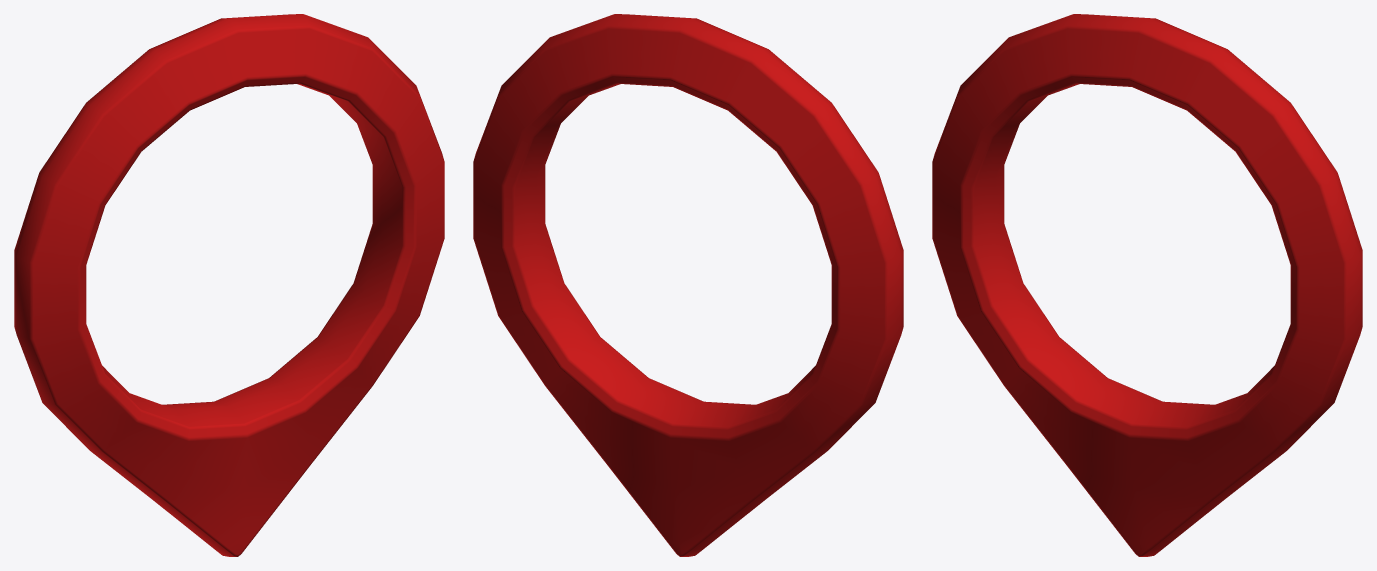
Rendered from placemarker2.glb.
3 views of the same model, side by side, from view 1: azimuth 30°, elevation 25°; view 2: azimuth 150°, elevation 25°; view 3: azimuth 330°, elevation 25° (orthographic).
Visible parts, largest first — view 1: Location_sign_05v; view 2: Location_sign_05v; view 3: Location_sign_05v.
Part boxes in pixels (x1,y1,x2,y2): Location_sign_05v: (14,14,444,556); Location_sign_05v: (473,14,903,556); Location_sign_05v: (932,14,1362,556).
Bounding box in the file's own units: 1.16 × 1.4 × 0.1701.
